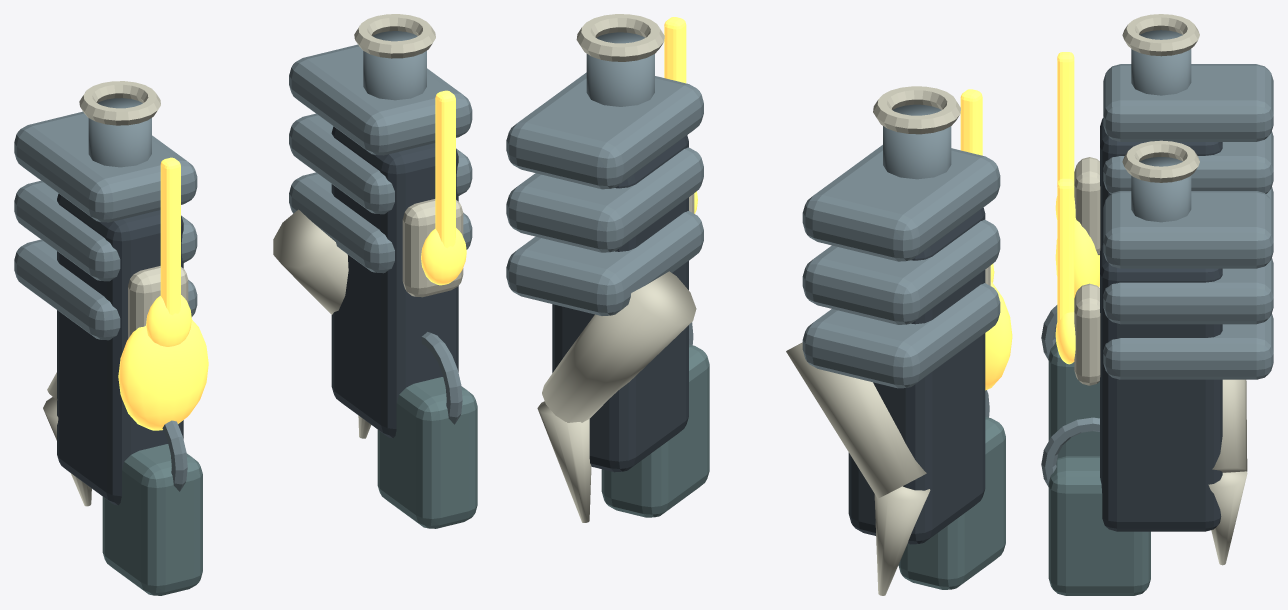
File: YK_03_Soryeong_Weapon_E03.glb
The picture shows the model from 3 angles, left to right: view 1: azimuth 30°, elevation 25°; view 2: azimuth 150°, elevation 25°; view 3: azimuth 270°, elevation 25°; orthographic projection. The views are drawn at different scales.
Visible parts, largest first — view 1: SM_YK_03_Soryeong_Weapon_P00_R, SM_YK_03_Soryeong_Weapon_P00_L, SM_YK_03_Soryeong_Weapon_P01_L, SM_YK_03_Soryeong_Weapon_P01_R, SM_YK_03_Soryeong_Weapon_P03_L, SM_YK_03_Soryeong_Weapon_P02_R, SM_YK_03_Soryeong_Weapon_P03_R, SM_YK_03_Soryeong_Weapon_P02_L; view 2: SM_YK_03_Soryeong_Weapon_P01_L, SM_YK_03_Soryeong_Weapon_P01_R, SM_YK_03_Soryeong_Weapon_P00_L, SM_YK_03_Soryeong_Weapon_P00_R, SM_YK_03_Soryeong_Weapon_P02_R, SM_YK_03_Soryeong_Weapon_P02_L, SM_YK_03_Soryeong_Weapon_P03_L, SM_YK_03_Soryeong_Weapon_P03_R; view 3: SM_YK_03_Soryeong_Weapon_P00_R, SM_YK_03_Soryeong_Weapon_P01_R, SM_YK_03_Soryeong_Weapon_P01_L, SM_YK_03_Soryeong_Weapon_P00_L, SM_YK_03_Soryeong_Weapon_P02_R, SM_YK_03_Soryeong_Weapon_P03_L, SM_YK_03_Soryeong_Weapon_P03_R.
Boxes of the visible parts, left/top/right/bottom form: SM_YK_03_Soryeong_Weapon_P00_R: left=331, top=14, right=477, bottom=528; SM_YK_03_Soryeong_Weapon_P00_L: left=57, top=81, right=202, bottom=595; SM_YK_03_Soryeong_Weapon_P01_L: left=14, top=111, right=197, bottom=340; SM_YK_03_Soryeong_Weapon_P01_R: left=289, top=44, right=472, bottom=273; SM_YK_03_Soryeong_Weapon_P03_L: left=118, top=157, right=208, bottom=430; SM_YK_03_Soryeong_Weapon_P02_R: left=273, top=209, right=370, bottom=438; SM_YK_03_Soryeong_Weapon_P03_R: left=435, top=90, right=455, bottom=248; SM_YK_03_Soryeong_Weapon_P02_L: left=43, top=372, right=91, bottom=506; SM_YK_03_Soryeong_Weapon_P01_L: left=802, top=145, right=1000, bottom=388; SM_YK_03_Soryeong_Weapon_P01_R: left=506, top=72, right=703, bottom=315; SM_YK_03_Soryeong_Weapon_P00_L: left=848, top=86, right=1005, bottom=589; SM_YK_03_Soryeong_Weapon_P00_R: left=552, top=14, right=709, bottom=517; SM_YK_03_Soryeong_Weapon_P02_R: left=537, top=271, right=696, bottom=522; SM_YK_03_Soryeong_Weapon_P02_L: left=786, top=342, right=930, bottom=595; SM_YK_03_Soryeong_Weapon_P03_L: left=960, top=89, right=1012, bottom=390; SM_YK_03_Soryeong_Weapon_P03_R: left=664, top=17, right=686, bottom=83; SM_YK_03_Soryeong_Weapon_P00_R: left=1041, top=140, right=1222, bottom=595; SM_YK_03_Soryeong_Weapon_P01_R: left=1103, top=191, right=1273, bottom=379; SM_YK_03_Soryeong_Weapon_P01_L: left=1103, top=64, right=1273, bottom=206; SM_YK_03_Soryeong_Weapon_P00_L: left=1041, top=14, right=1222, bottom=458; SM_YK_03_Soryeong_Weapon_P02_R: left=1208, top=379, right=1247, bottom=565; SM_YK_03_Soryeong_Weapon_P03_L: left=1055, top=52, right=1099, bottom=297; SM_YK_03_Soryeong_Weapon_P03_R: left=1057, top=178, right=1074, bottom=324.
Size of the model in its own units: 0.61 by 0.7004 by 0.341.
